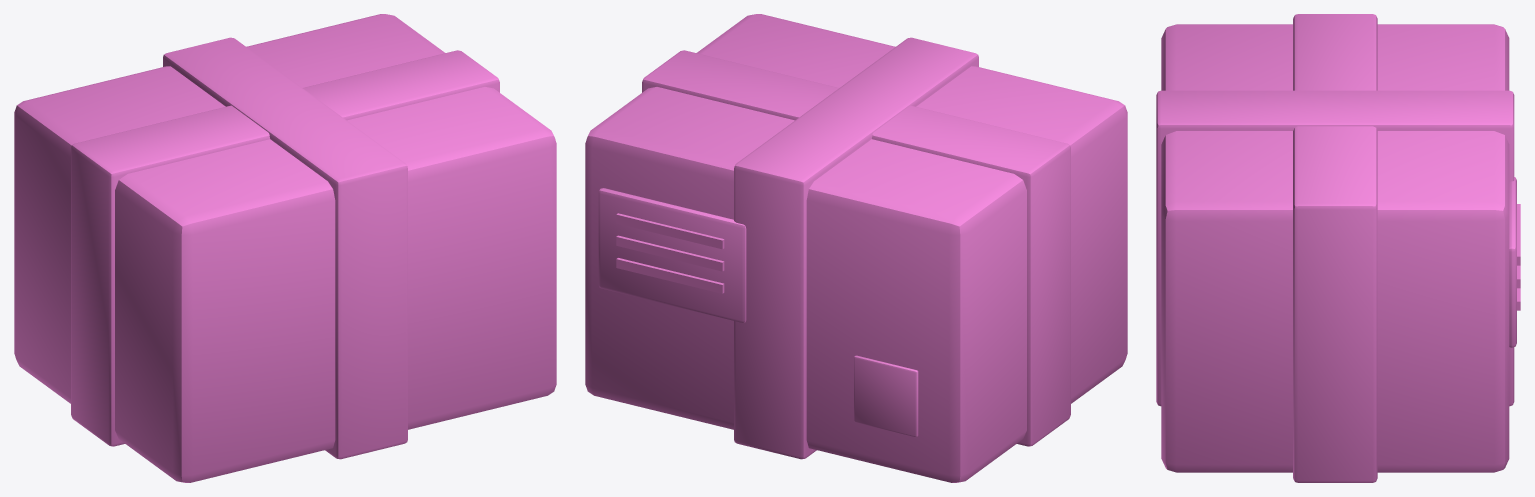
The model's file is Parcel_Post.fbx.
3 renders of one model, left to right at view 1: azimuth 30°, elevation 25°; view 2: azimuth 150°, elevation 25°; view 3: azimuth 270°, elevation 25°, orthographic.
Visible parts, largest first — view 1: Parcel; view 2: Parcel; view 3: Parcel.
Part boxes in pixels (x1,y1,x2,y2): Parcel: (14, 14, 556, 482); Parcel: (585, 14, 1127, 482); Parcel: (1156, 14, 1520, 482).
Bounding box in the file's own units: 1.84 × 1.26 × 1.47.
1 material, 1 textured.
